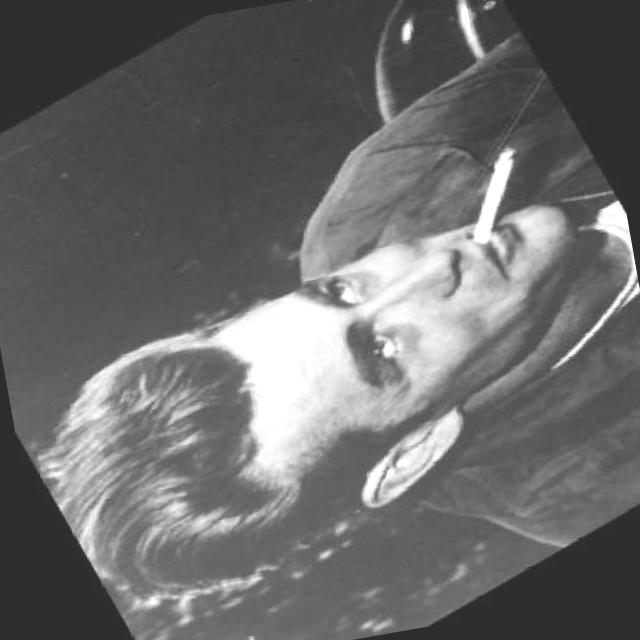smoke: (434, 134, 563, 255)
